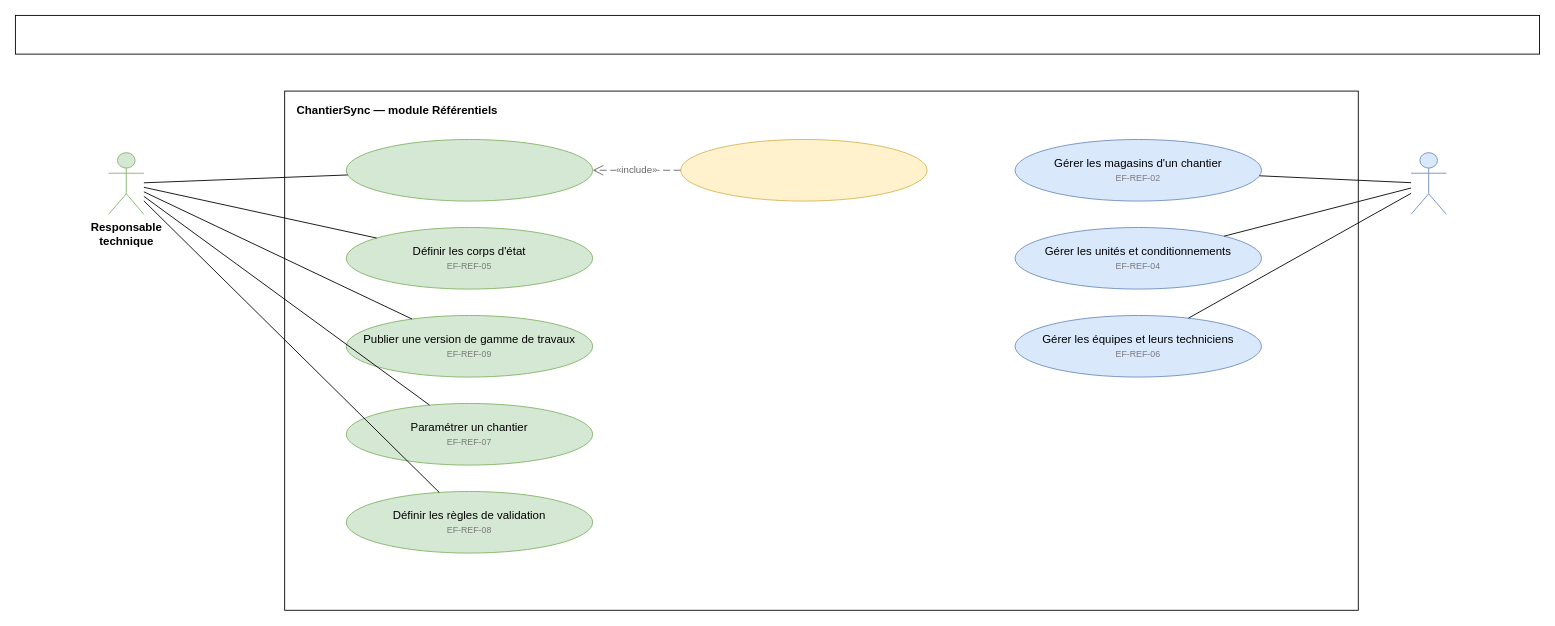
This 1555x626 diagram has some shape labels left out. The shapes that lost their labels are listed below. From the top down, each one's centre as x and y in pixels, then its label:
[777,34]: Diagramme de cas d'utilisation 3 — Référentiels et paramétrage
[469,170]: Gérer chantiers, zones et logements EF-REF-01
[803,170]: Importer un référentiel en CSV EF-REF-10
[1428,183]: Administrateur fonctionnel
